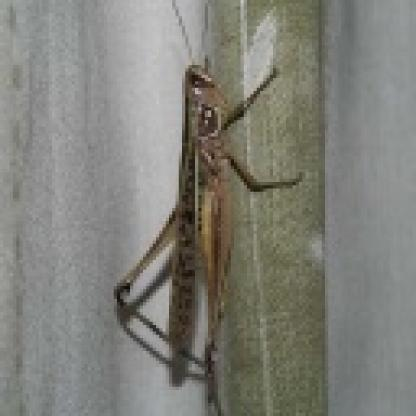grasshopper: (113, 2, 313, 405)
